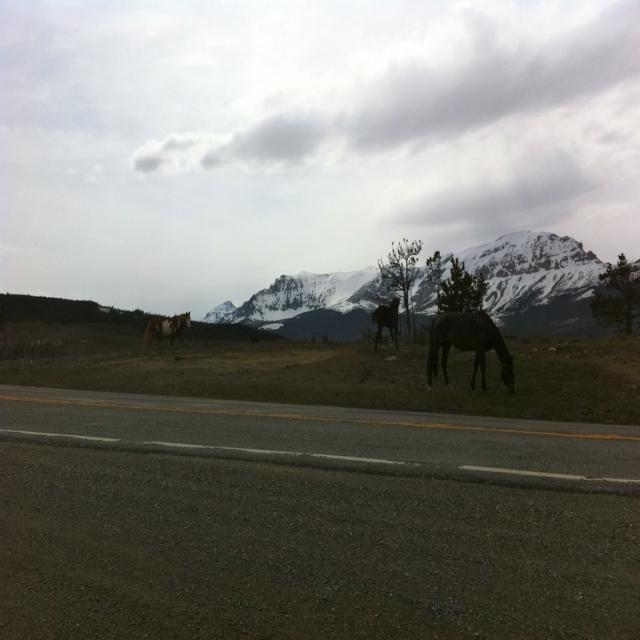Horse: (426, 309, 517, 394), (141, 307, 193, 355), (371, 297, 401, 357)
